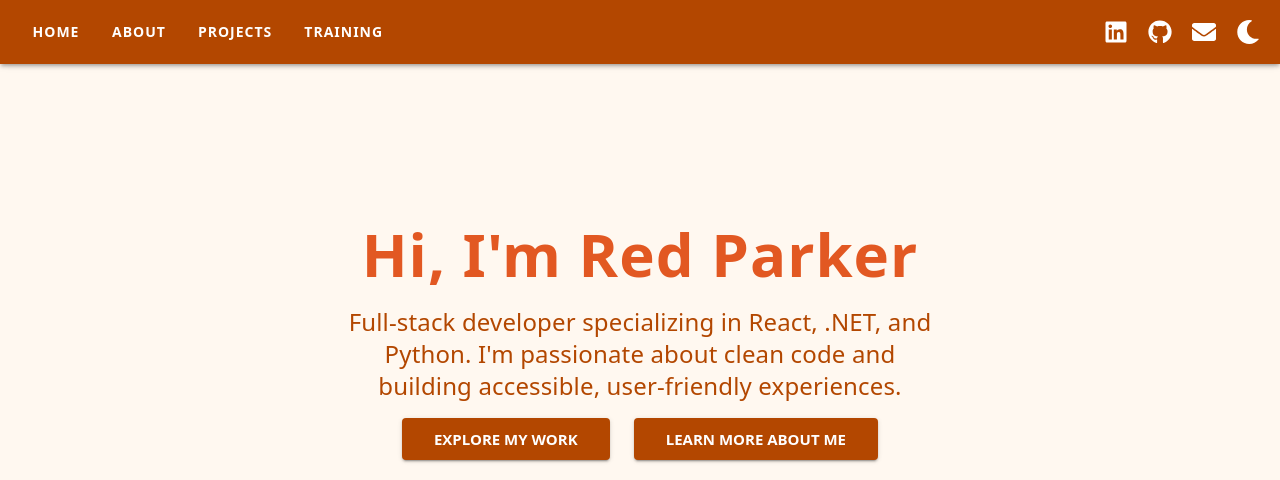
Test: Contact popover › shows email and phone when the contact icon is clicked
Click the button named "contact". click: (1204,32)
box: [1184,12,1224,52]
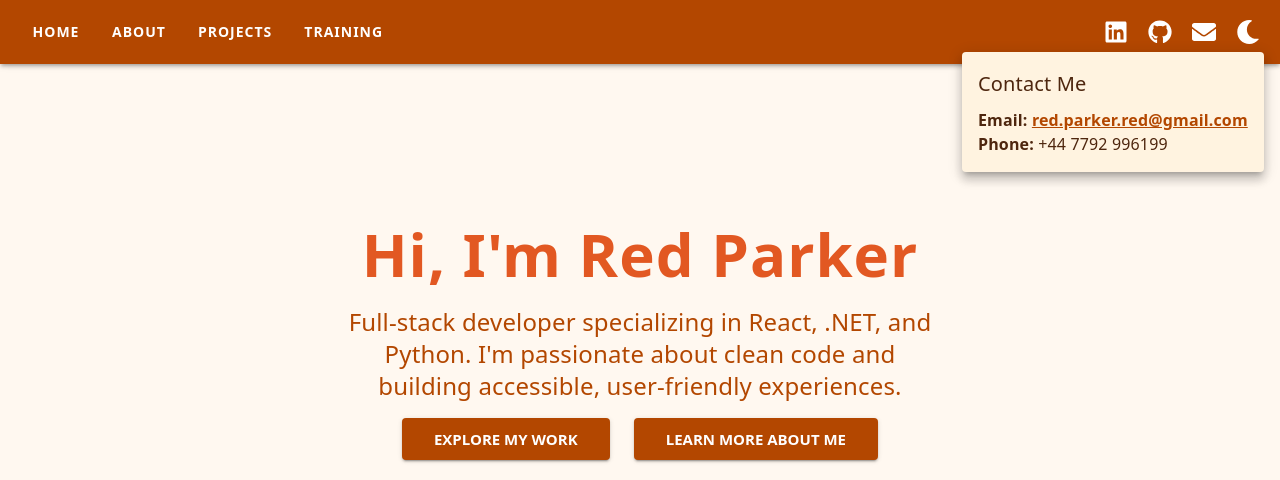
Result: the link "red.parker.red@gmail.com" is shown at [1032,109,1248,131]
Result: the text "+44 7792 996199" is shown at [1038,133,1168,155]
